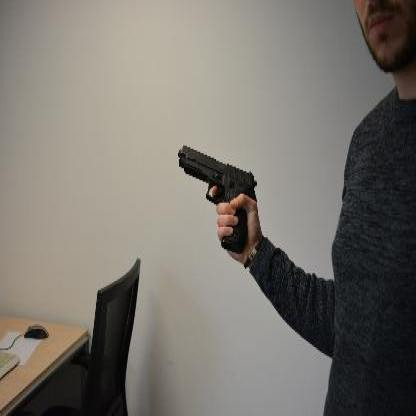pistol: (178, 143, 257, 252)
